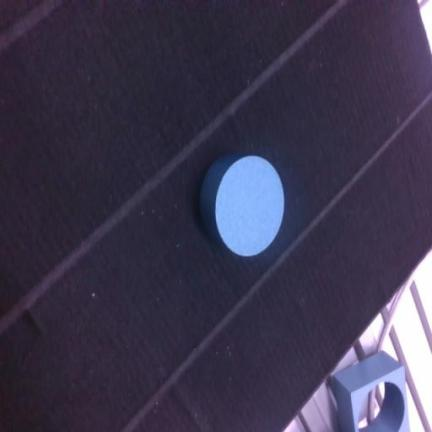cylinder: (200, 154, 284, 256)
